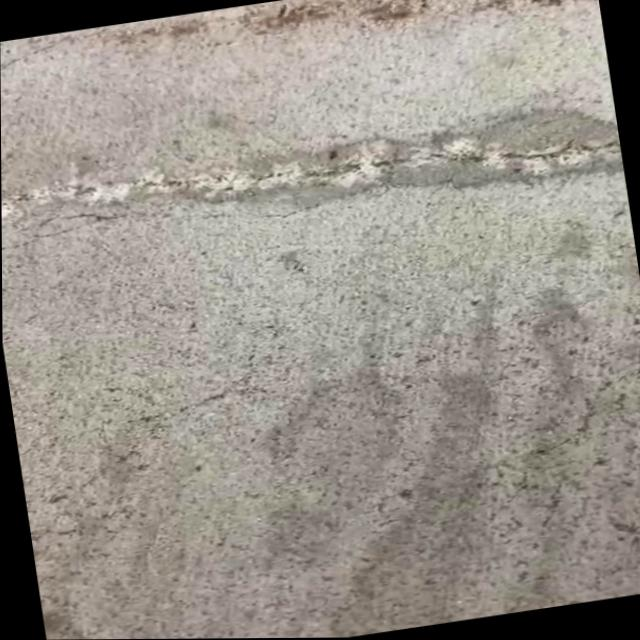Crack: (287, 103, 589, 205)
